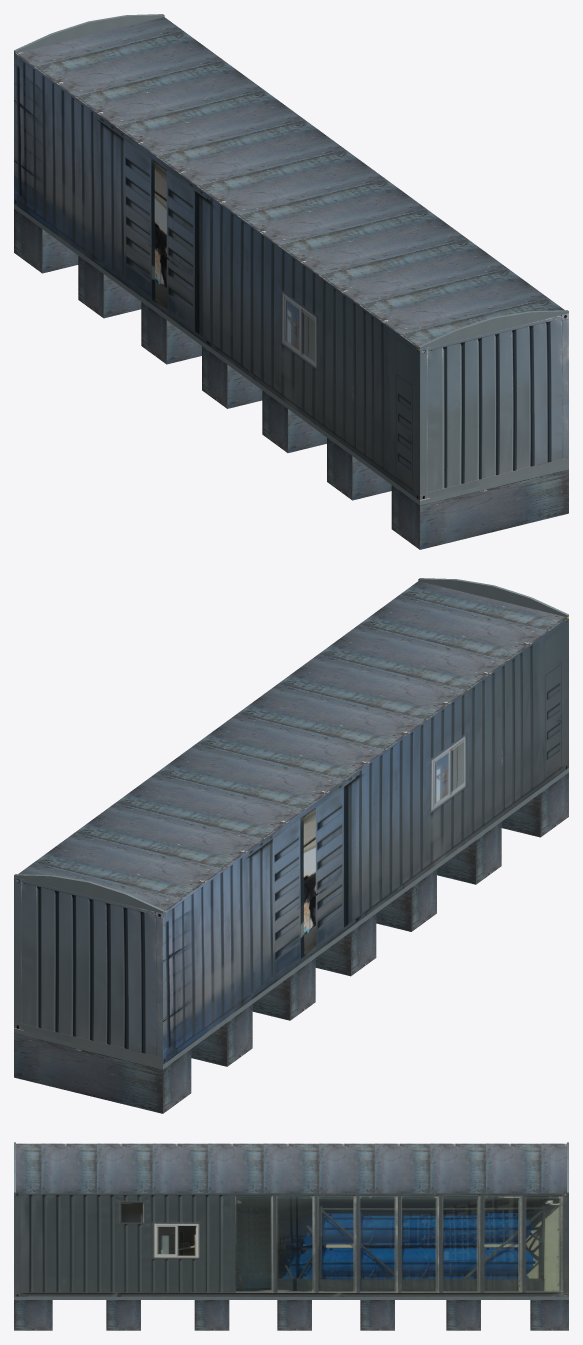
The model's file is HuoCheXiang.FBX.
The picture shows the model from 3 angles, top to bottom: view 1: azimuth 30°, elevation 25°; view 2: azimuth 150°, elevation 25°; view 3: azimuth 270°, elevation 25°; orthographic projection. The views are drawn at different scales.
Visible parts, largest first — view 1: Box001; view 2: Box001; view 3: Box001.
Part boxes in pixels (box(x1,y1,x2,y2)): Box001: box(14, 14, 568, 549); Box001: box(14, 578, 568, 1113); Box001: box(14, 1142, 568, 1330).
Size of the model in its own units: 362 by 494 by 1706.
